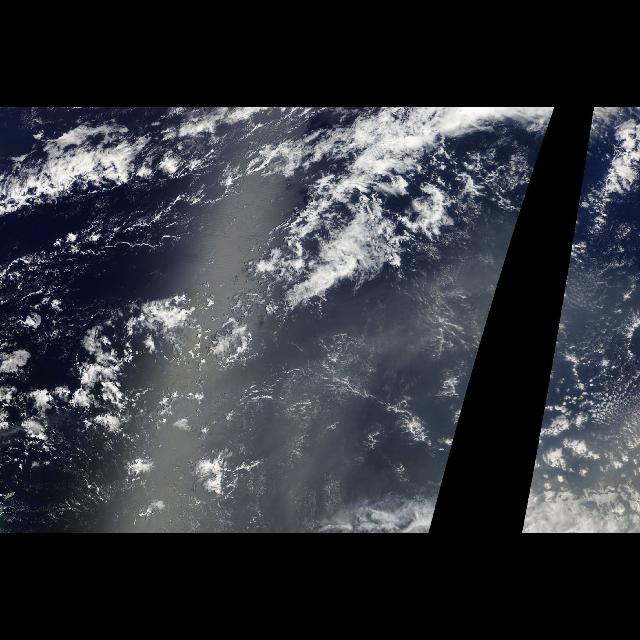Fish: (1, 110, 542, 334)
Sugar: (192, 296, 494, 499), (527, 296, 631, 499)
